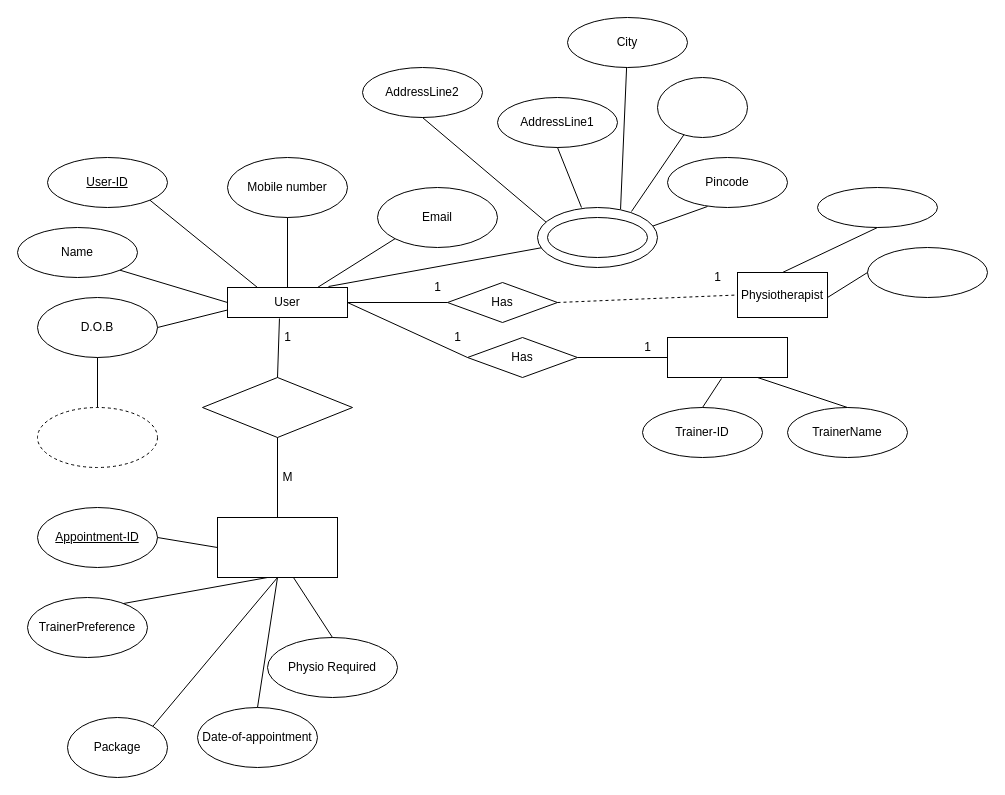
This 1005x795 diagram has some shape labels left out. The centre of each missing label's shape, as x and y in pixels:
"Address" belongs at pixel 597 237.
"Age" belongs at pixel 97 437.
"Appointment" belongs at pixel 277 547.
"Country" belongs at pixel 702 107.
"Manages" belongs at pixel 277 407.
"Physio-ID" belongs at pixel 877 207.
"PhysioName" belongs at pixel 927 272.
"Trainer" belongs at pixel 727 357.
